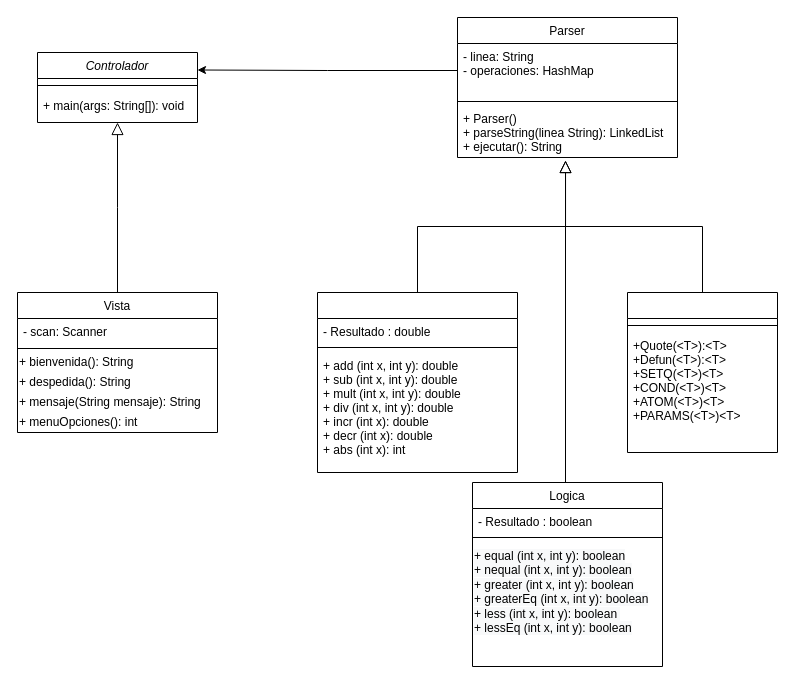
The diagram is 795 pixels wide and 684 high, and some of its shapes have lost their labels. The box of each missing label's shape, as (x1, y1, x2, y2) in pixels:
Aritmeticos: (316, 292, 518, 472)
Funciones: (626, 292, 778, 452)
